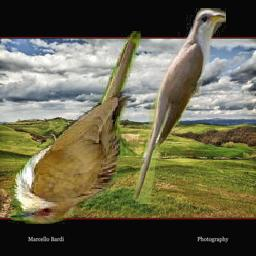Cuckoo: (9, 32, 142, 225), (132, 8, 227, 204)
